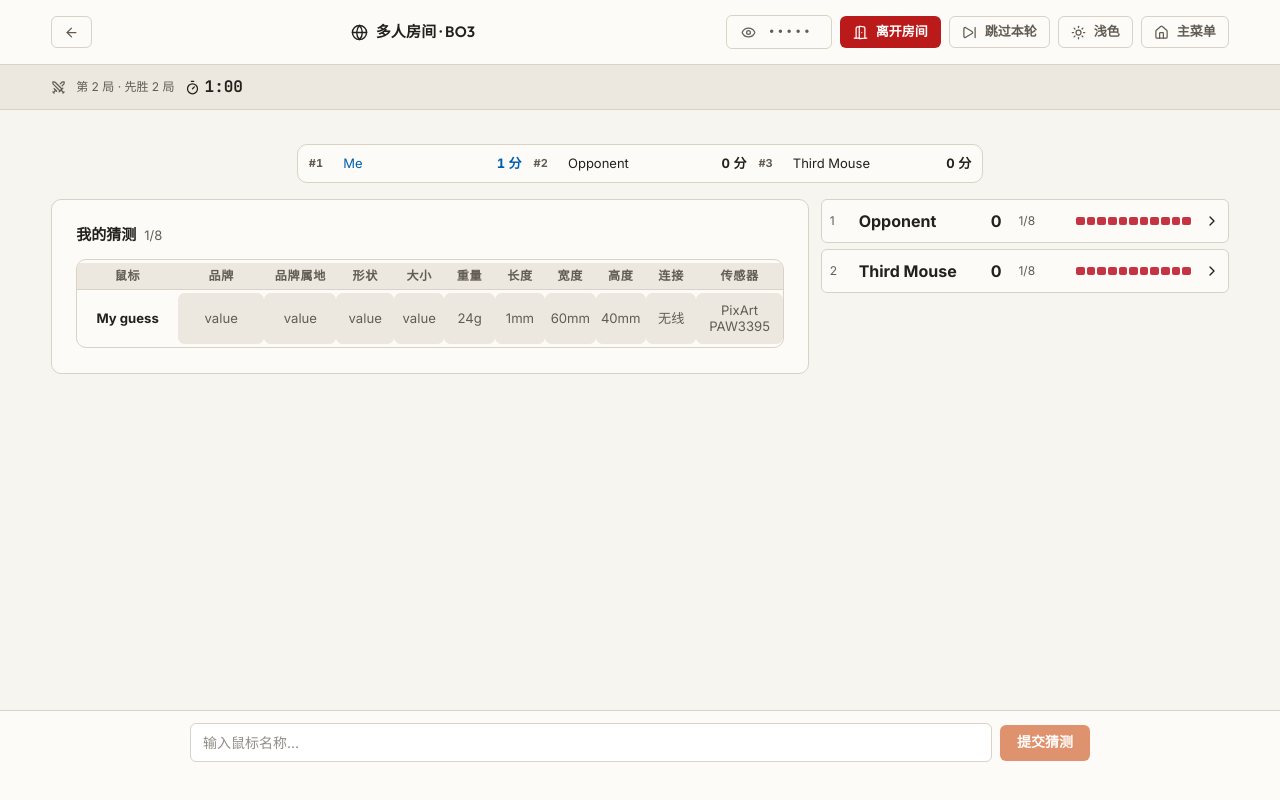
it: MultiRoom replay › keeps my board full-size and renders other players as compact expandable rows
The width and height of the screenshot is (1280, 800).
Expected: the heading "我的猜测 1/8" is shown, [76,225,162,244]
Expected: the element with class "multi-classic-layout-crowded" is shown, [51,199,1229,374]
Click the button "1 Opponent 0 1/8".
click(1025, 221)  # box [822,200,1228,242]
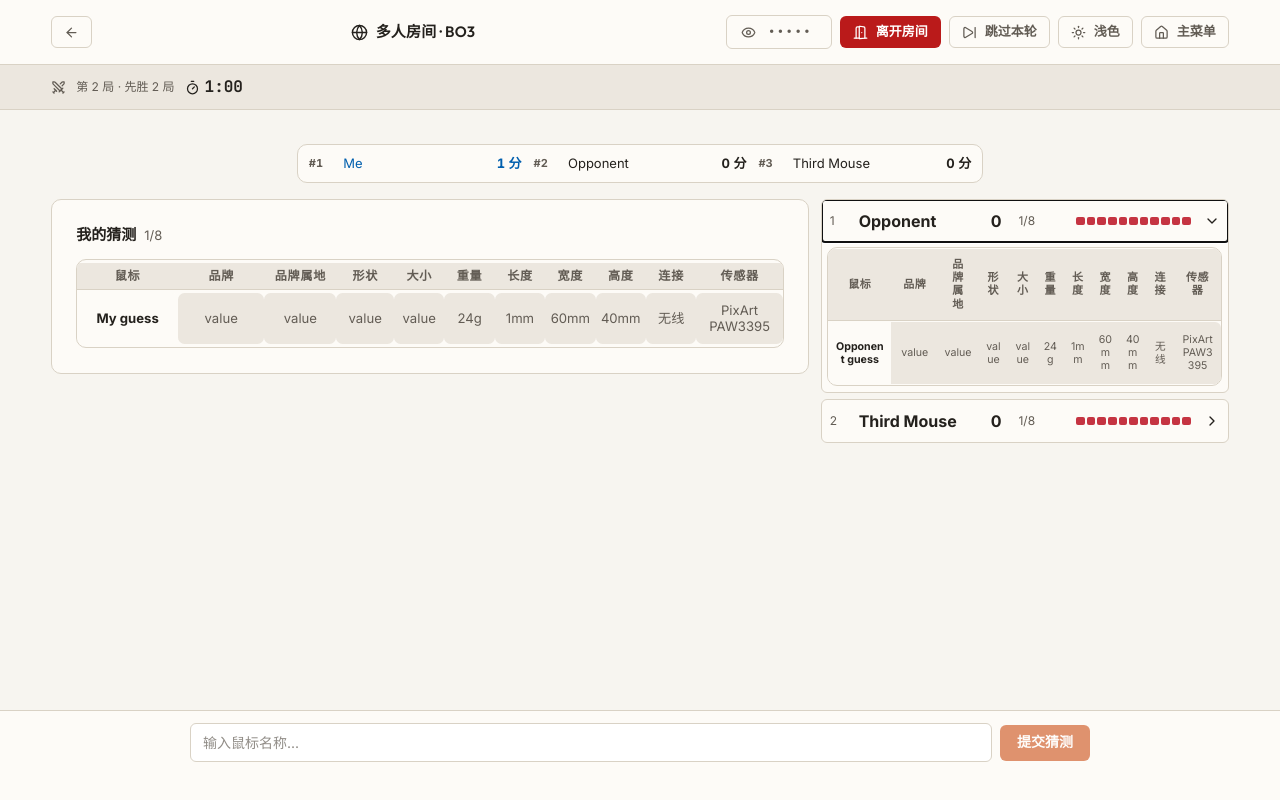
Now the text "Opponent guess" is shown, box [828,322,891,384]
Click the button "2 Third Mouse 0 1/8".
click(1025, 421)  # box [822,400,1228,442]
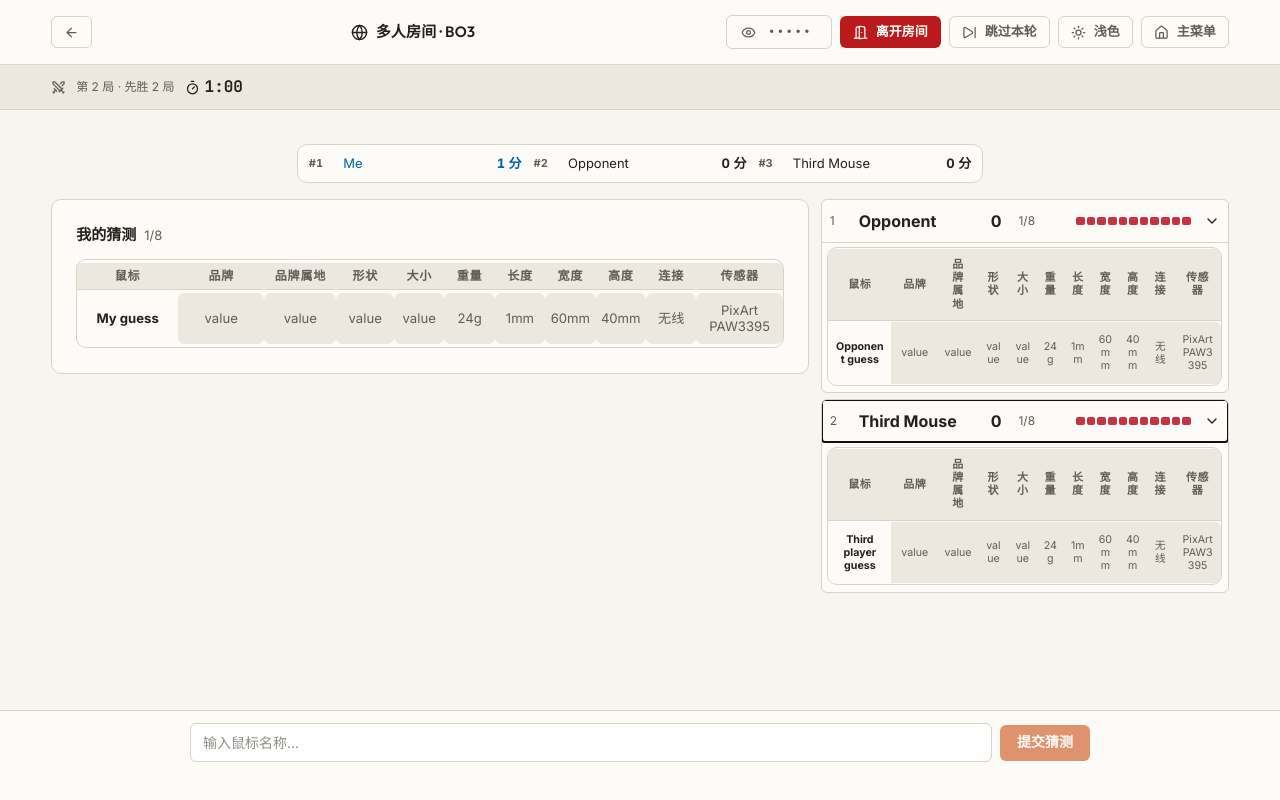
Now the text "Opponent guess" is shown, box [828,322,891,384]
Now the text "Third player guess" is shown, box [828,522,891,583]
